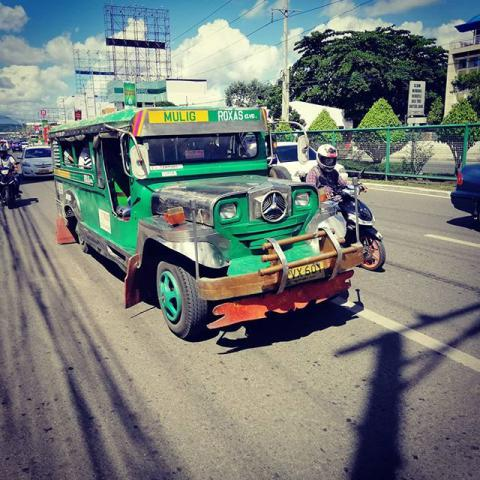car: (21, 143, 54, 181)
motorcycle: (329, 185, 386, 267), (0, 144, 23, 209)
truck: (54, 100, 353, 341)
